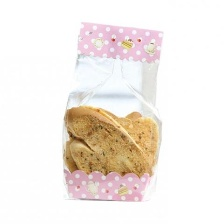snack: (52, 15, 173, 207)
